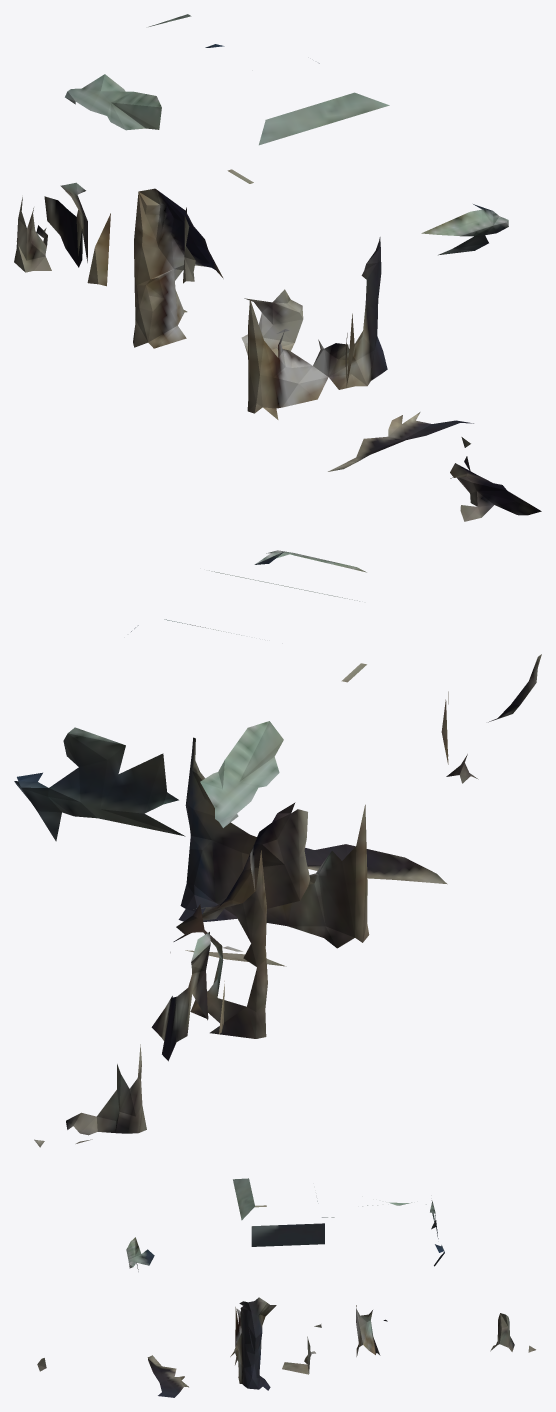
File: hero-brandenburger-tor-3898_58196-material-5.glb
The picture shows the model from 3 angles, top to bottom: view 1: azimuth 30°, elevation 25°; view 2: azimuth 150°, elevation 25°; view 3: azimuth 270°, elevation 25°; orthographic projection. The views are drawn at different scales.
Visible parts, largest first — view 1: world; view 2: world; view 3: world.
Part boxes in pixels (x1,y1,x2,y2): world: (14,14,541,521); world: (14,550,541,1147); world: (37,1178,535,1397).
Size of the model in its own units: 15.91 by 21.66 by 56.91.
1 material, 1 textured.
